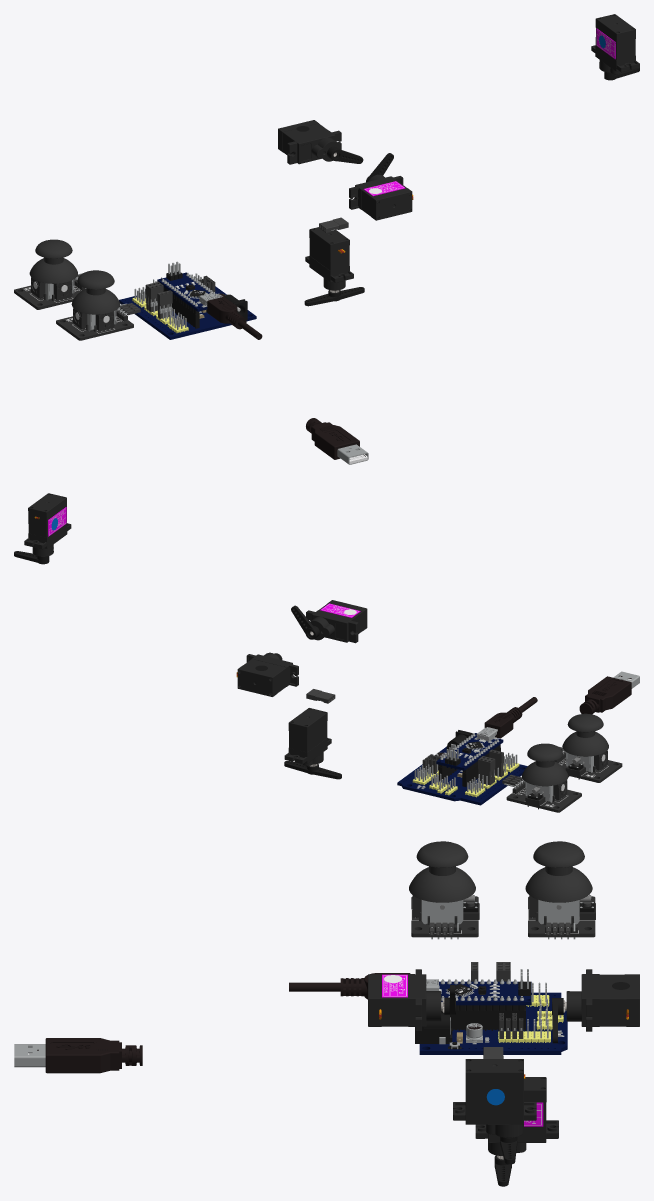
3 views of the same model, one above another, from view 1: azimuth 30°, elevation 25°; view 2: azimuth 150°, elevation 25°; view 3: azimuth 270°, elevation 25° (orthographic). The views are drawn at different scales.
Visible parts, largest first — view 1: NAUO81, NAUO80, NAUO82, NAUO66, NAUO45, NAUO72, NAUO58, USB_A, NAUO126, USB_B; view 2: NAUO82, NAUO80, NAUO81, NAUO72, NAUO58, NAUO45, NAUO66, NAUO126, USB_A, USB_B, NAUO46; view 3: NAUO82, NAUO81, NAUO80, NAUO72, USB_A, NAUO58, NAUO66, NAUO126, NAUO45, USB_B.
Boxes of the visible parts, <box> form: NAUO81: <box>56,270,133,340</box>; NAUO80: <box>14,239,85,309</box>; NAUO82: <box>119,273,256,339</box>; NAUO66: <box>349,174,413,220</box>; NAUO45: <box>305,227,353,292</box>; NAUO72: <box>591,14,639,74</box>; NAUO58: <box>278,120,341,164</box>; USB_A: <box>306,418,368,464</box>; NAUO126: <box>157,261,220,313</box>; USB_B: <box>206,296,262,339</box>; NAUO82: <box>397,730,527,805</box>; NAUO80: <box>504,743,581,812</box>; NAUO81: <box>555,713,622,782</box>; NAUO72: <box>24,493,71,556</box>; NAUO58: <box>236,652,298,696</box>; NAUO45: <box>284,708,331,766</box>; NAUO66: <box>306,600,367,643</box>; NAUO126: <box>436,727,503,772</box>; USB_A: <box>579,671,639,714</box>; USB_B: <box>483,697,537,738</box>; NAUO46: <box>284,761,341,779</box>; NAUO82: <box>415,982,567,1054</box>; NAUO81: <box>409,841,479,939</box>; NAUO80: <box>525,841,595,939</box>; NAUO72: <box>453,1059,536,1137</box>; USB_A: <box>14,1038,142,1073</box>; NAUO58: <box>563,969,639,1031</box>; NAUO66: <box>368,969,444,1031</box>; NAUO126: <box>426,969,531,1010</box>; NAUO45: <box>475,1077,558,1159</box>; USB_B: <box>289,973,428,999</box>.
Size of the model in its own units: 368 by 124 by 242.
